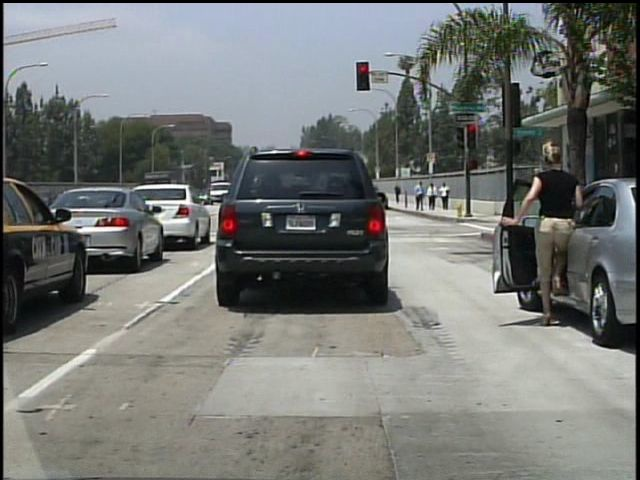person: (518, 142, 590, 334), (416, 179, 427, 211), (440, 182, 452, 211), (428, 182, 439, 212), (394, 183, 403, 205)
